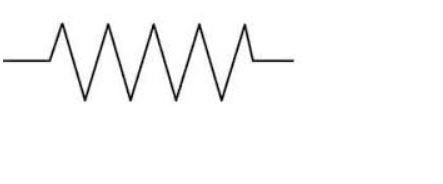resistor: (28, 11, 279, 102)
